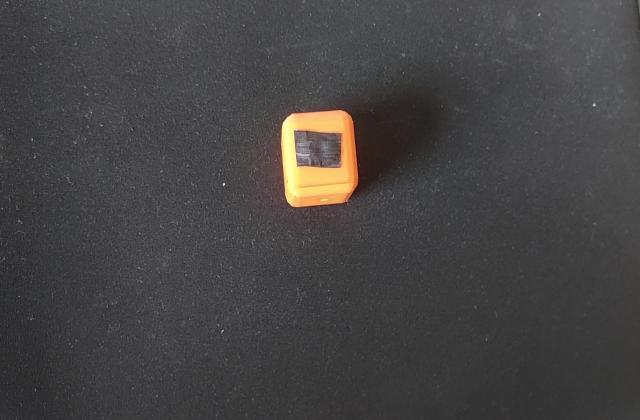black: (288, 125, 348, 171)
sticker: (276, 107, 361, 216)
